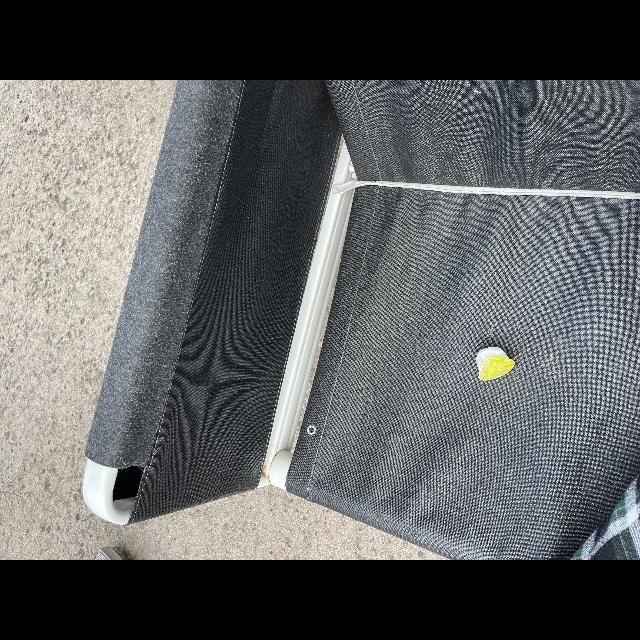damaged_capsule: (462, 338, 526, 388)
